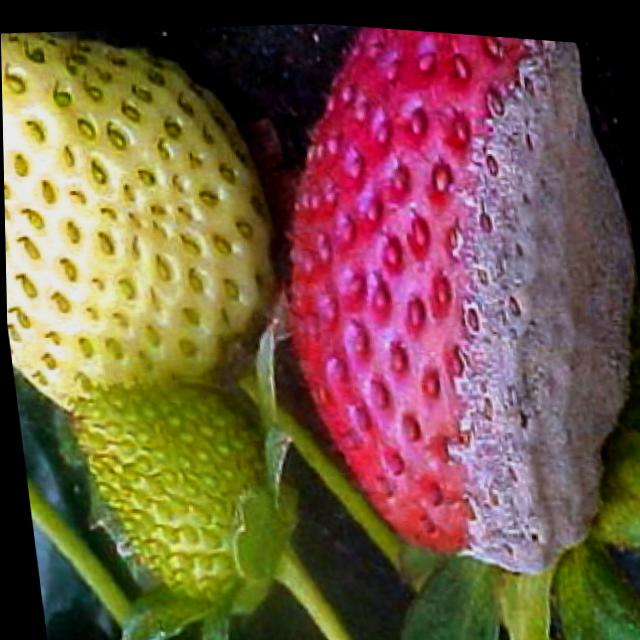Gray Mold: (423, 28, 635, 567)
